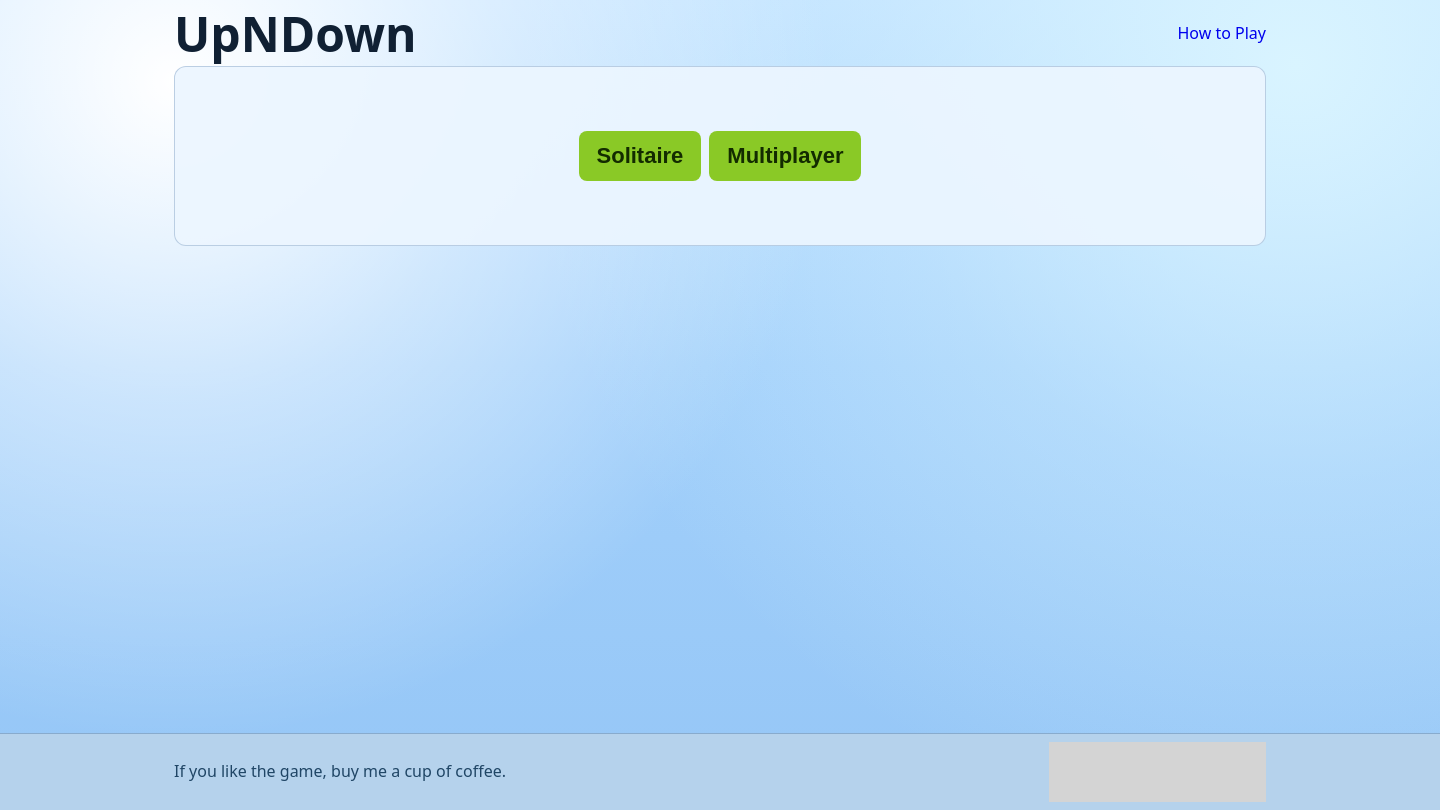
Test case: solitaire App › shows an error when trying an invalid move
The image size is (1440, 810).
Click the button with test id "mode-solitaire": (640, 156) [578,131,701,181]
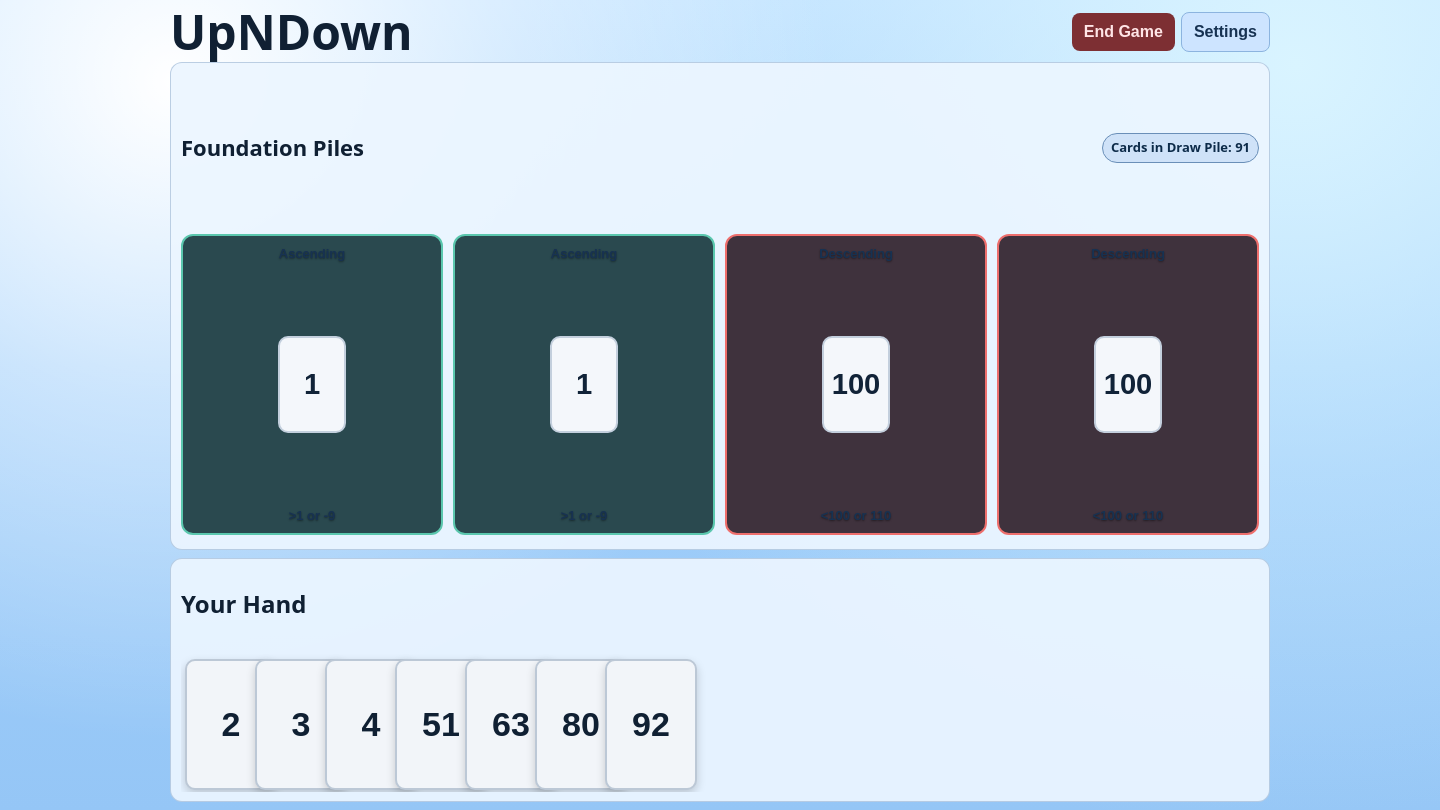
Click the button with test id "hand-card-": (651, 724) [605,659,697,790]
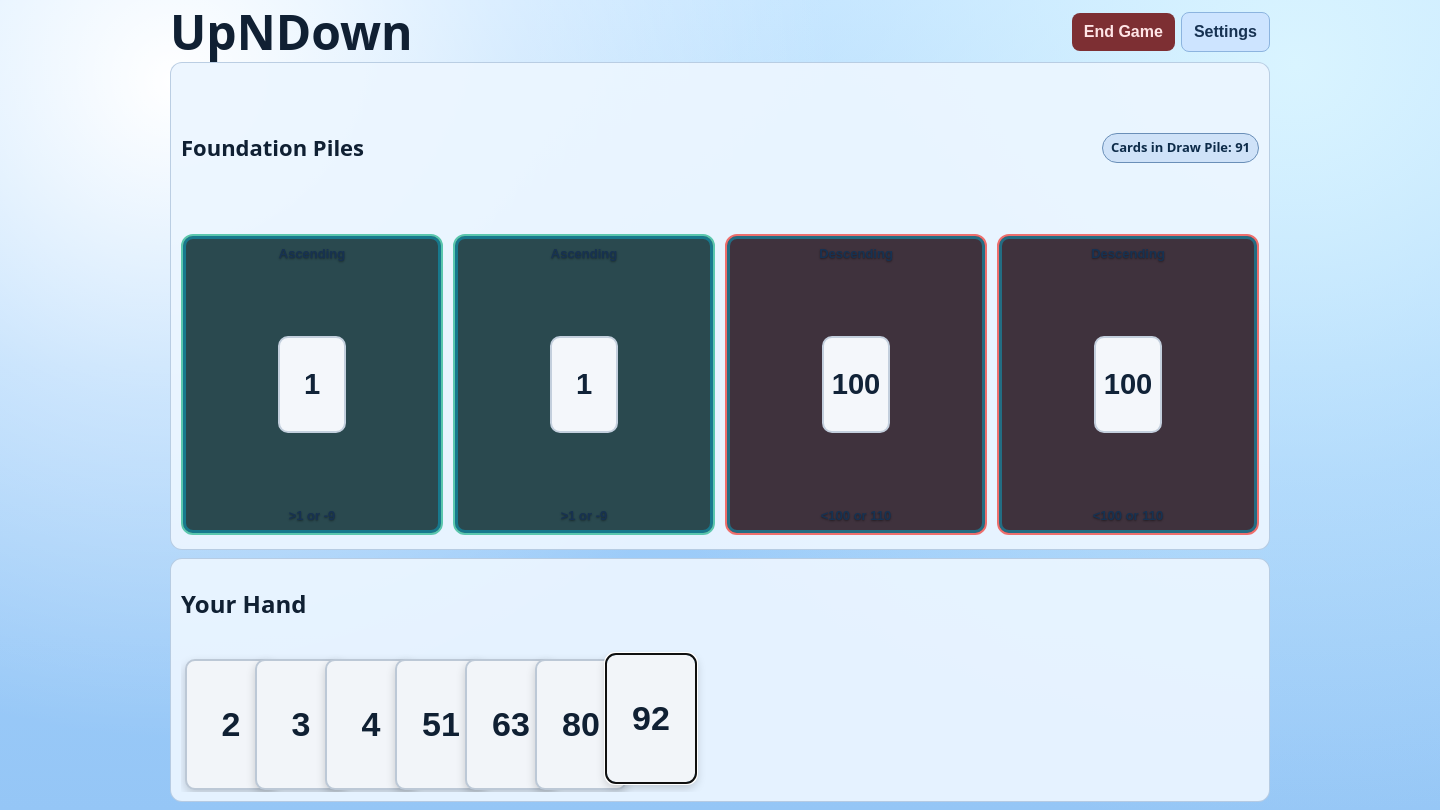
Click the button with test id "pile-0": (312, 384) [187,240,437,529]
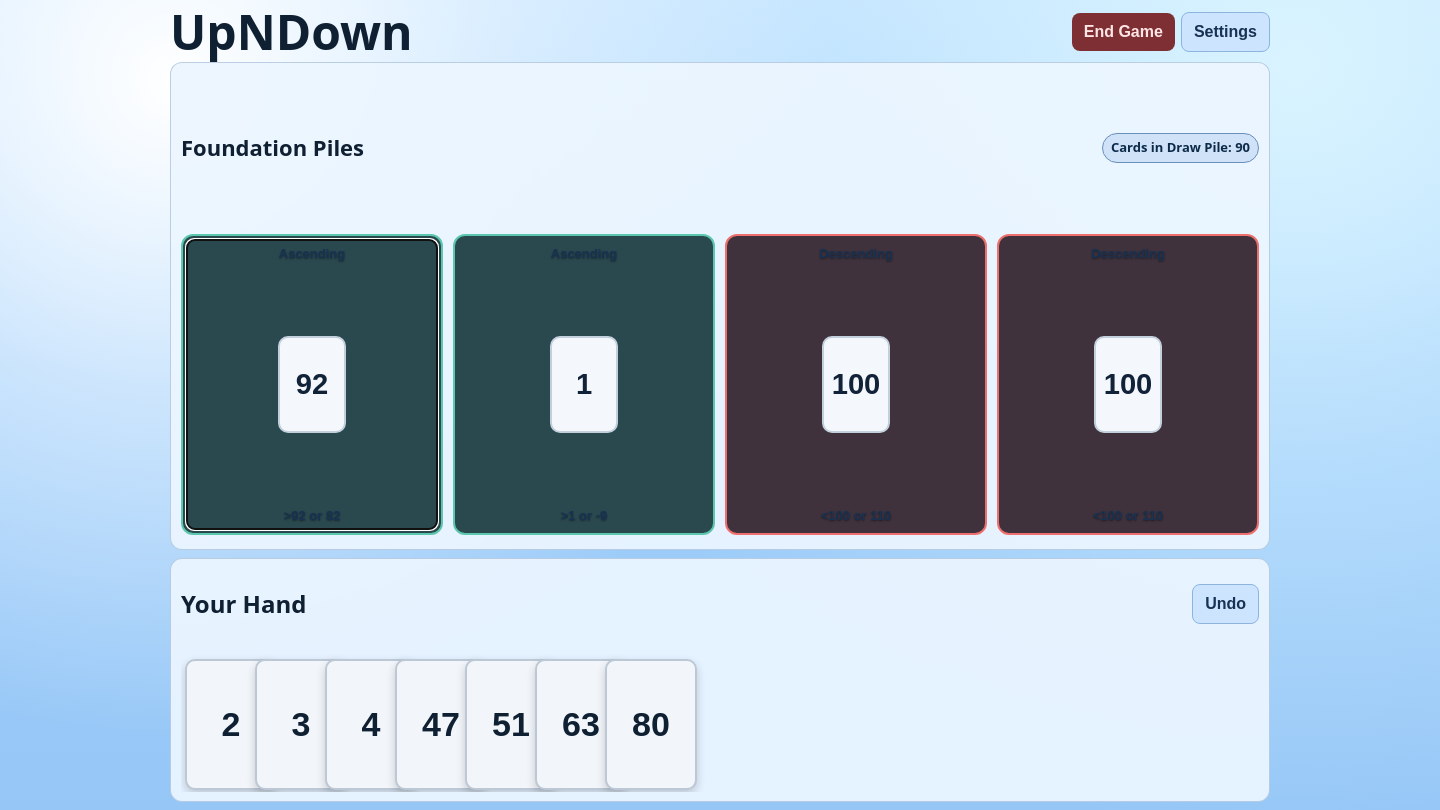
Click the button with test id "hand-card-": (651, 724) [605,659,697,790]
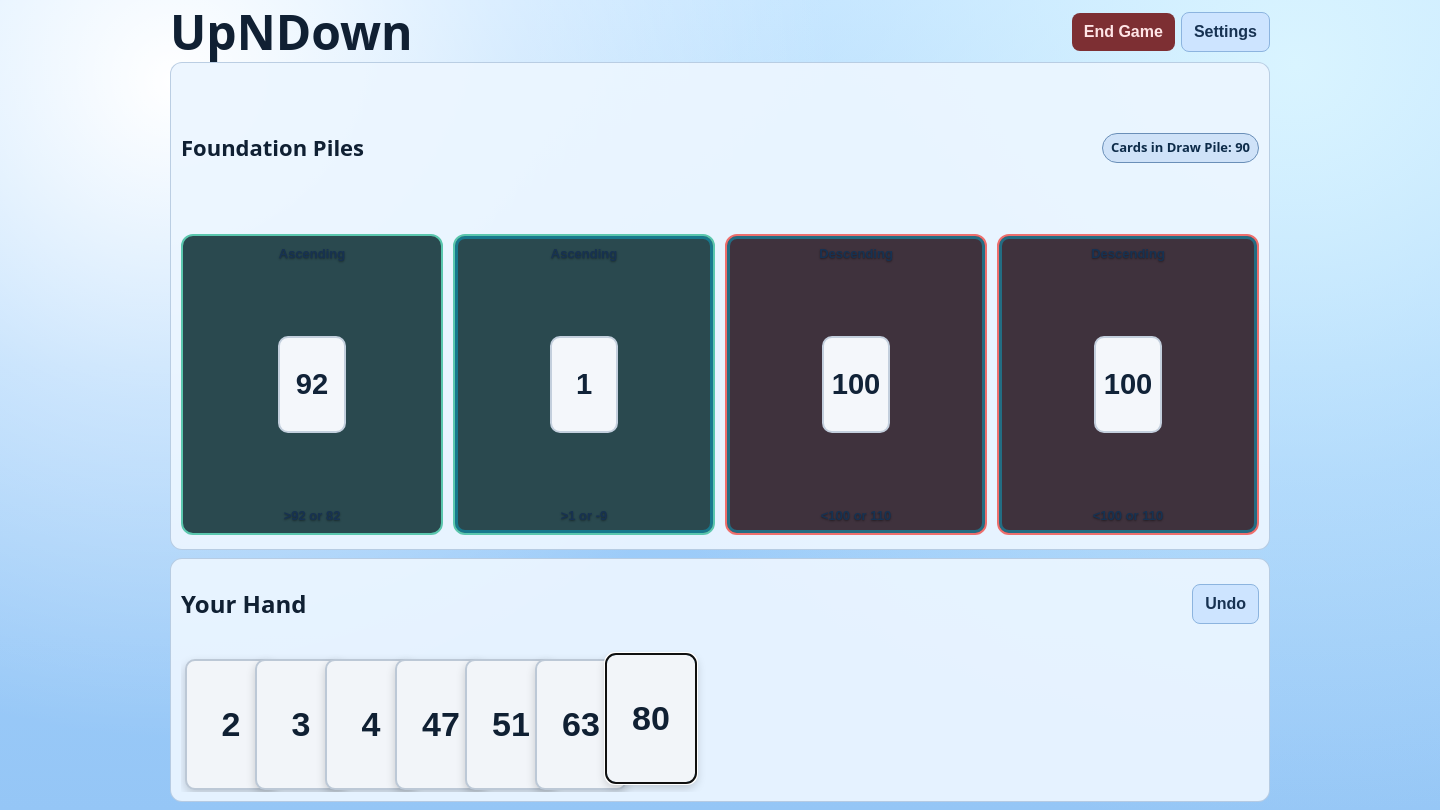
Click the button with test id "pile-0": (312, 384) [187,240,437,529]
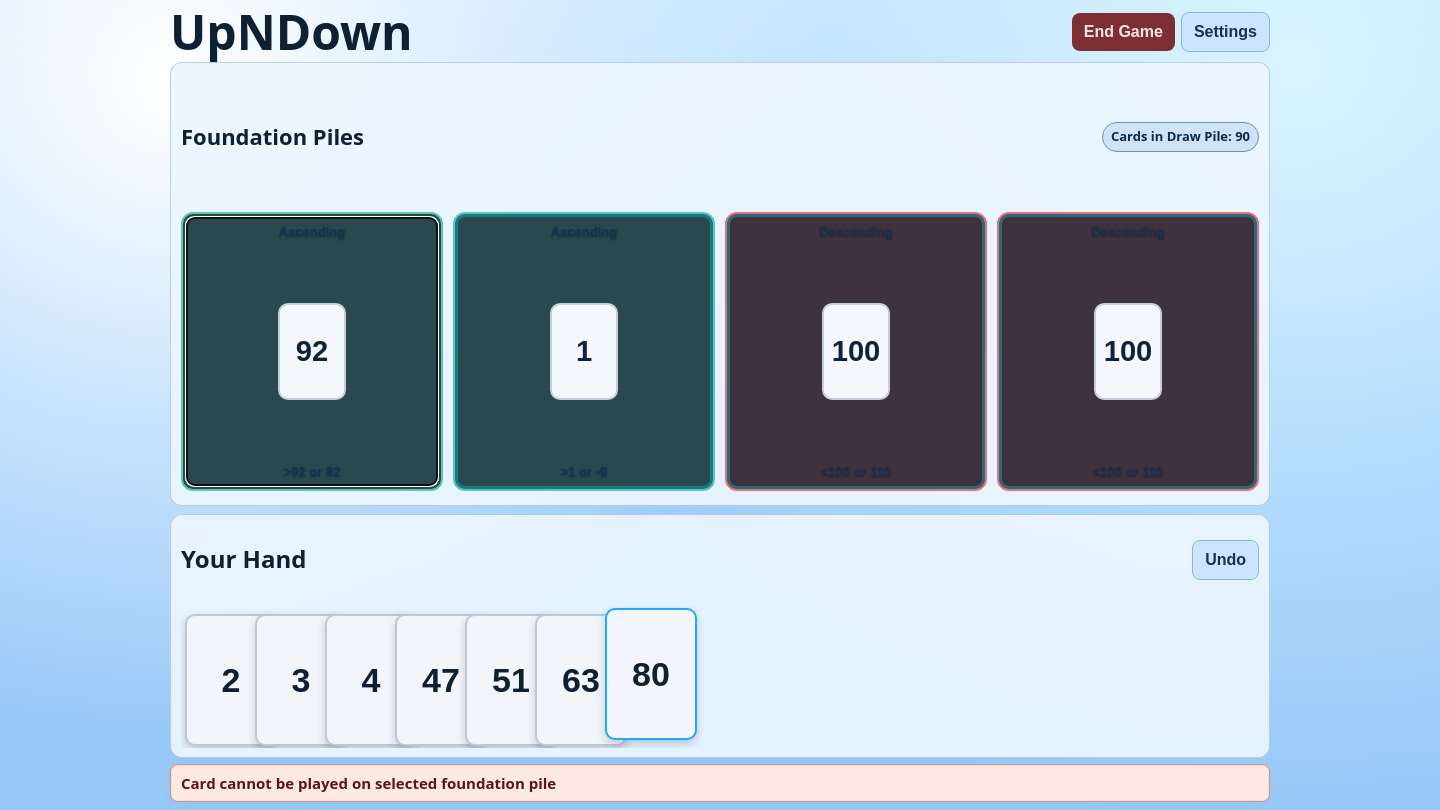
Expected: the message "Card cannot be played on selected foundation pile" is shown, [170,764,1270,802]
